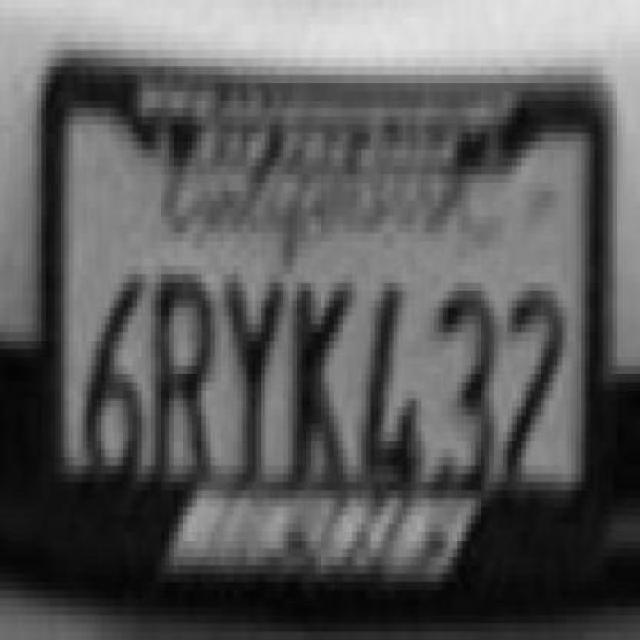licenseplate: (37, 36, 625, 532)
